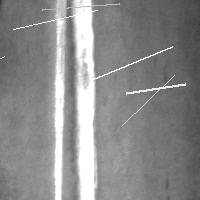scratches: (69, 1, 97, 199), (87, 42, 177, 85), (117, 70, 179, 130), (53, 1, 69, 200), (8, 5, 102, 34), (121, 79, 190, 98), (37, 0, 124, 15), (0, 51, 9, 93), (161, 170, 172, 193)
